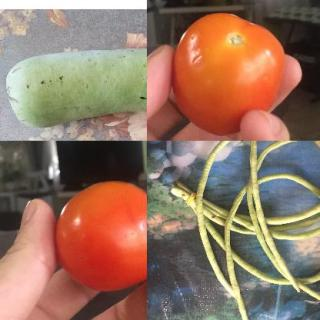Tomat: (170, 10, 294, 134), (52, 177, 148, 303)
